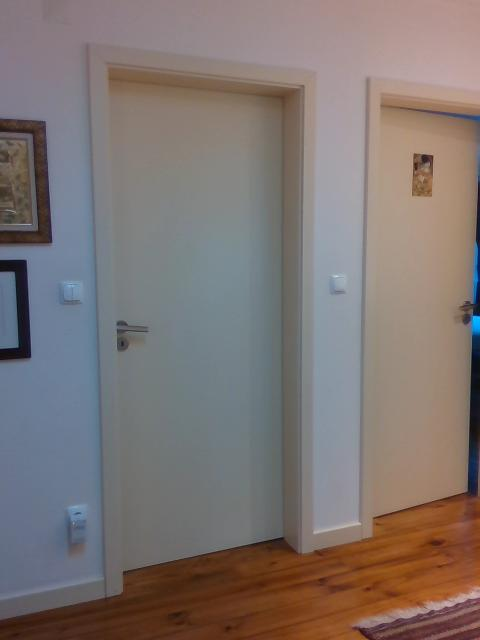door: (111, 77, 287, 569), (372, 103, 468, 516)
